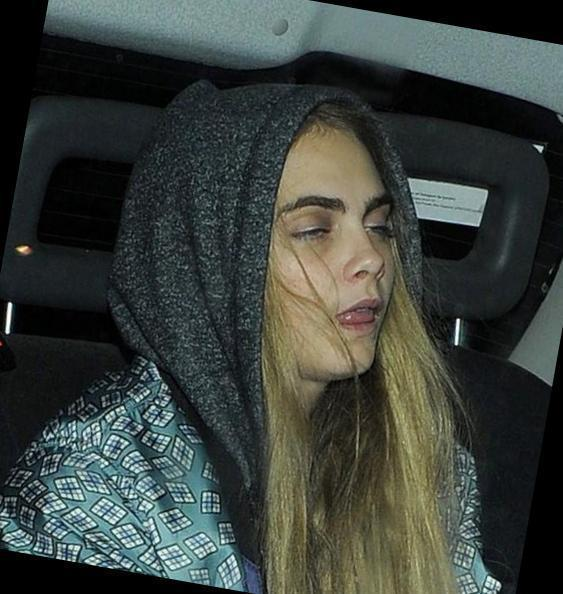Drunk: (278, 128, 397, 383)
